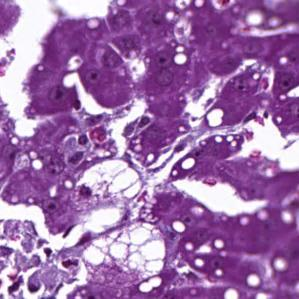inflammation: (67, 119, 113, 167)
